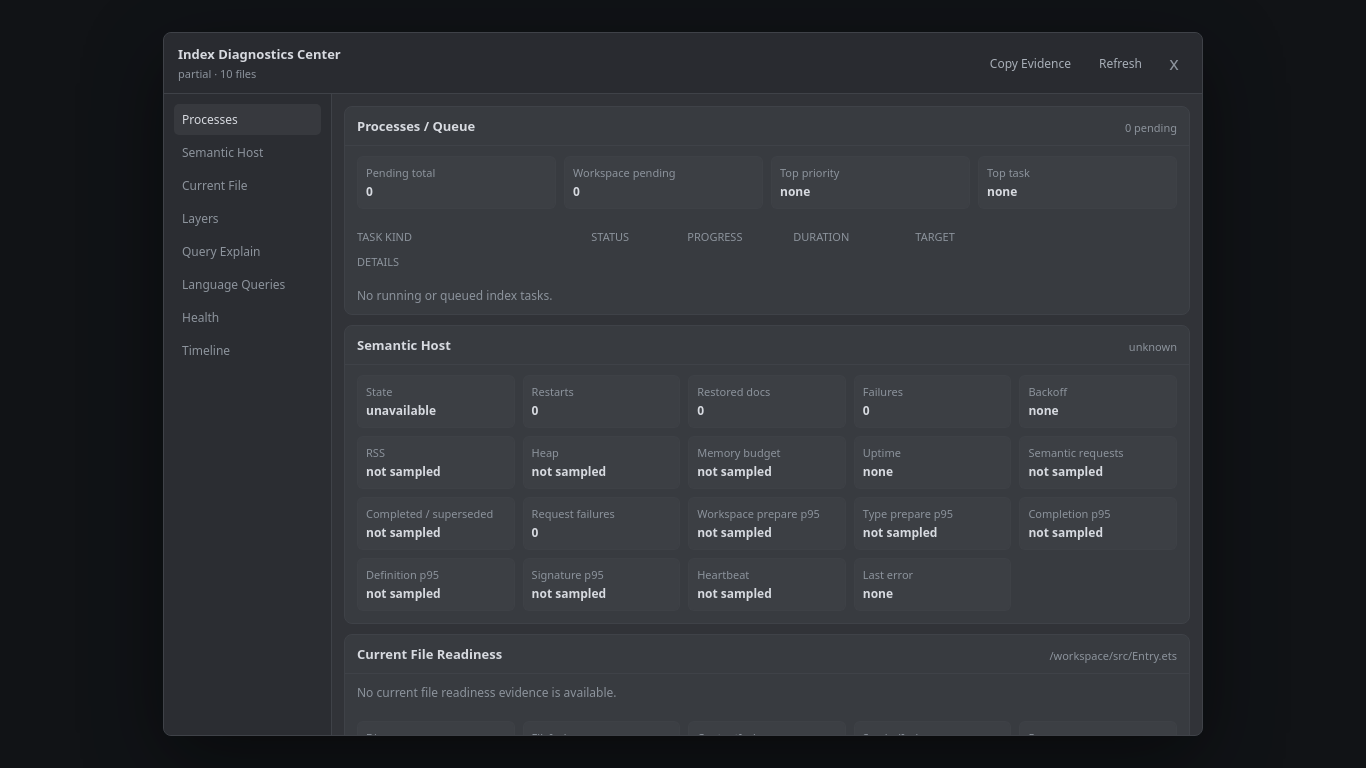
Test: IndexDiagnosticsCenter copy evidence › reports clipboard write failures without closing diagnostics
Click the button "Copy Evidence". click: (1030, 63)
box: [980,51,1081,75]
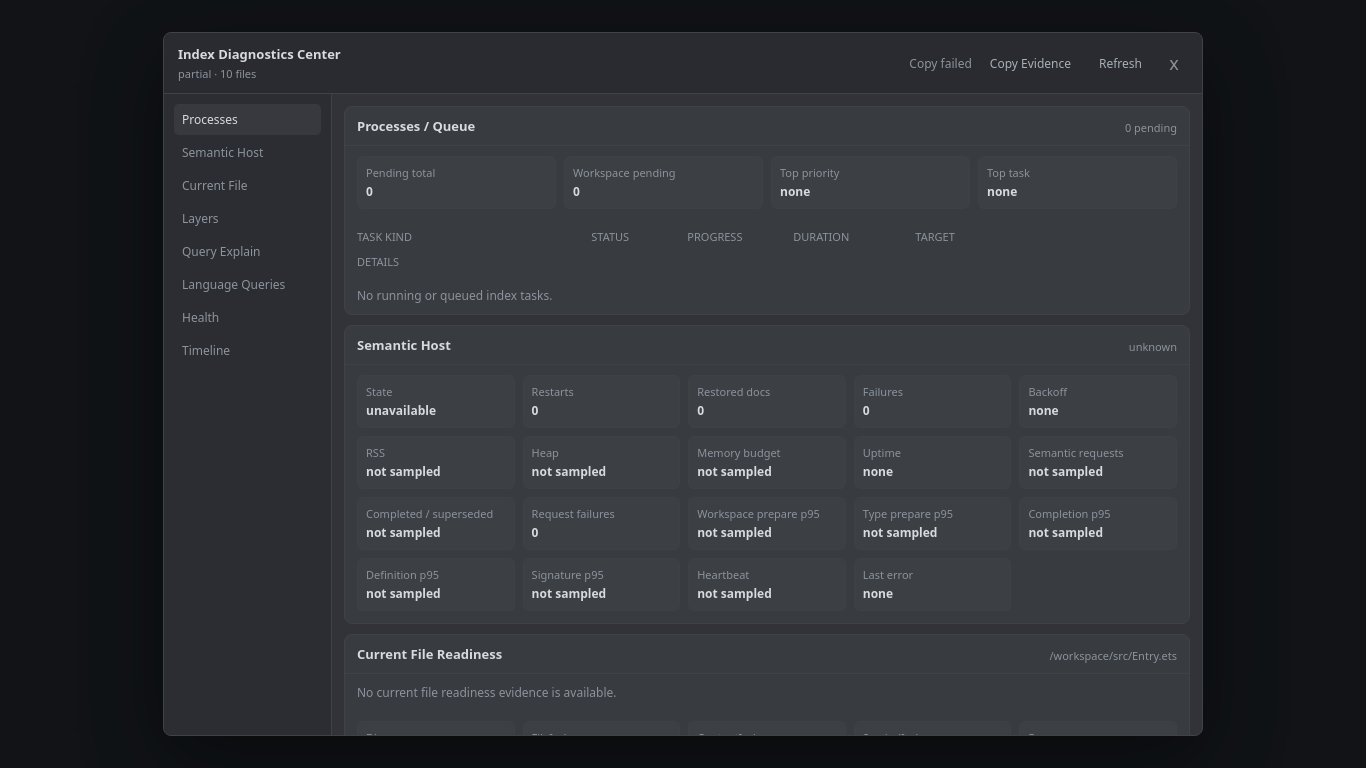
Now the text "Copy failed" is shown, box [909,54,972,72]
